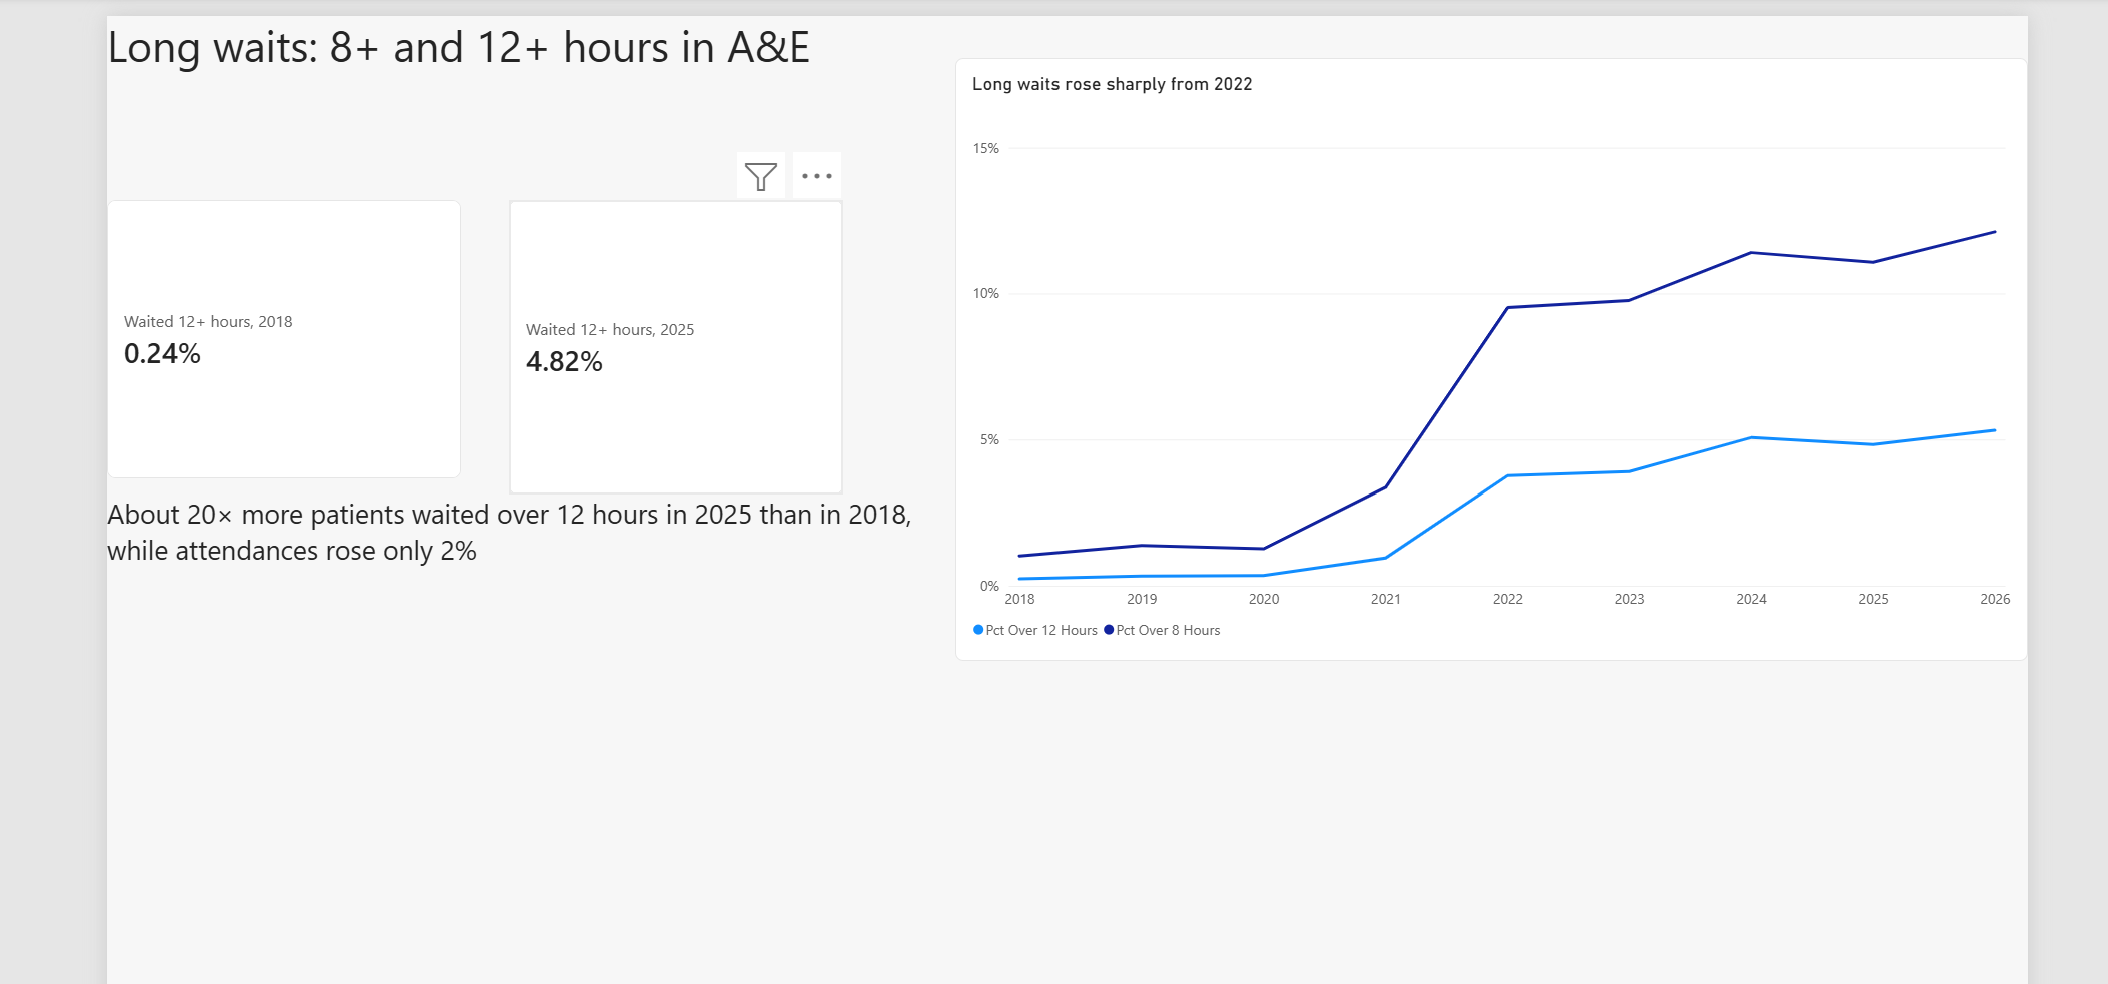

The dashboard page shown, as its layout file describes it:
{"tool":"powerbi","page":{"name":"Long waits","canvas":[1920,1080],"ordinal":3},"visuals":[{"type":"textbox","box":[0,0,735.6,91.1],"z":0},{"type":"cardVisual","fields":{"Data":["Activity.Pct Over 12 Hours"]},"box":[0,184,354,278],"z":1000},{"type":"cardVisual","fields":{"Data":["Activity.Pct Over 12 Hours"]},"box":[402,184,334,294],"z":2000},{"type":"textbox","box":[0,477.8,826.7,86.7],"z":2001},{"type":"lineChart","title":"Long waits rose sharply from 2022","fields":{"Category":["Activity.Month.Variation.Date Hierarchy.Year","Activity.Month.Variation.Date Hierarchy.Quarter","Activity.Month.Variation.Date Hierarchy.Month","Activity.Month.Variation.Date Hierarchy.Day"],"Y":["Activity.Pct Over 12 Hours","Activity.Pct Over 8 Hours"]},"box":[848,42,1072,602],"z":2002}]}

Visuals, with their boxes on the page's 1920x1080 design canvas (x1, y1, x2, y2). These are canvas units, not pixel positions in the 2108x984 screenshot, which may show the page scaled, cropped or inside an application window:
textbox: {"x1": 0, "y1": 0, "x2": 736, "y2": 91}
cardVisual - Activity.Pct Over 12 Hours: {"x1": 0, "y1": 184, "x2": 354, "y2": 462}
cardVisual - Activity.Pct Over 12 Hours: {"x1": 402, "y1": 184, "x2": 736, "y2": 478}
textbox: {"x1": 0, "y1": 478, "x2": 827, "y2": 564}
"Long waits rose sharply from 2022" lineChart: {"x1": 848, "y1": 42, "x2": 1920, "y2": 644}
